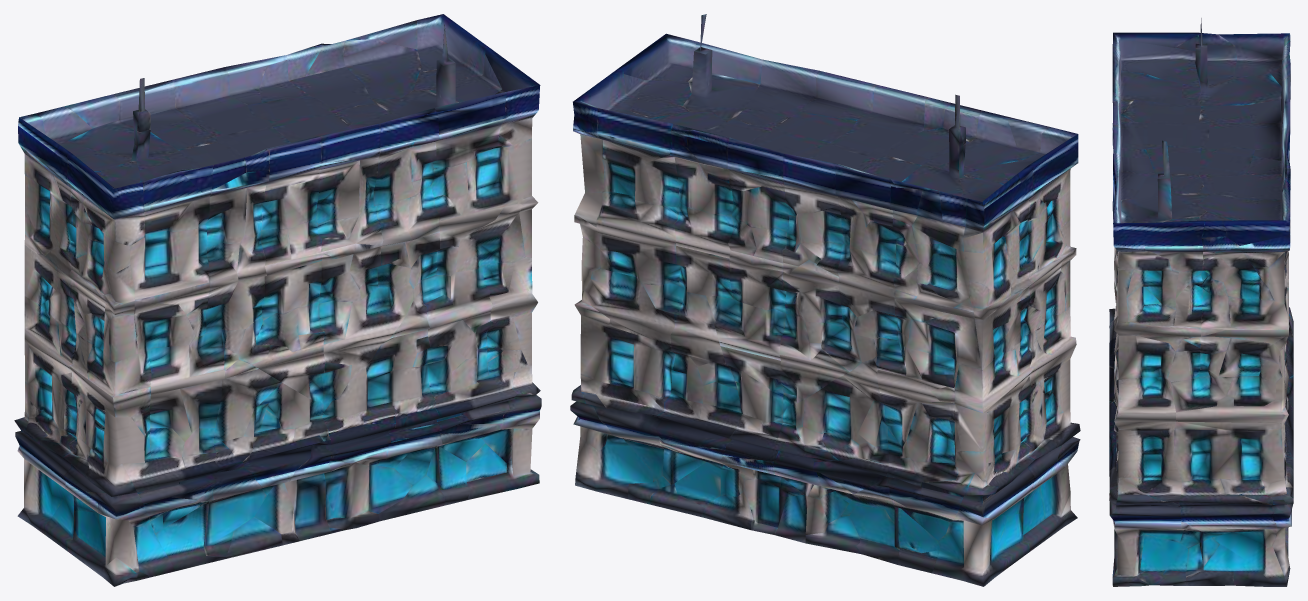
File: building_wide.glb
The picture shows the model from 3 angles, left to right: view 1: azimuth 30°, elevation 25°; view 2: azimuth 150°, elevation 25°; view 3: azimuth 270°, elevation 25°; orthographic projection. The views are drawn at different scales.
Parts seen in each view (by area): view 1: mesh_node; view 2: mesh_node; view 3: mesh_node.
Part boxes in pixels (x1=…): mesh_node: x1=14, y1=14, x2=541, y2=586; mesh_node: x1=570, y1=14, x2=1080, y2=586; mesh_node: x1=1109, y1=18, x2=1293, y2=586.
Bounding box in the file's own units: 1.89 × 1.9 × 0.7634.
1 material, 1 textured.
